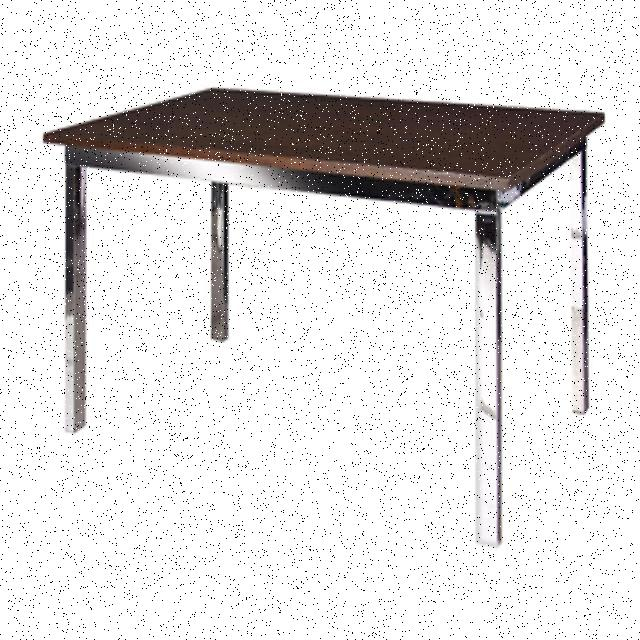mobile-phone: (38, 91, 608, 548)
